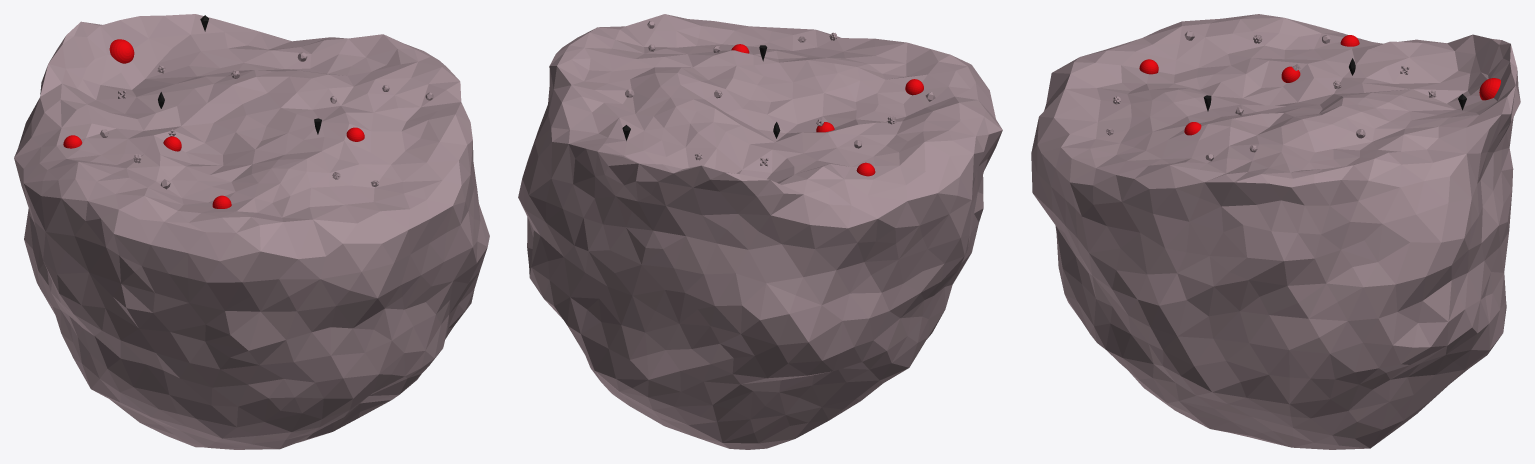
Rendered from World.glb.
3 renders of one model, left to right at view 1: azimuth 30°, elevation 25°; view 2: azimuth 150°, elevation 25°; view 3: azimuth 270°, elevation 25°, orthographic. The views are drawn at different scales.
Parts seen in each view (by area): view 1: Planet Bottom, Planet Top, ST_TheseRockySlopes; view 2: Planet Bottom, Planet Top; view 3: Planet Bottom, Planet Top.
Boxes of the visible parts, box(x1,y1,x2,y2) form: Planet Bottom: box(14, 21, 489, 449); Planet Top: box(14, 14, 472, 232); ST_TheseRockySlopes: box(109, 39, 134, 63); Planet Bottom: box(518, 30, 1002, 449); Planet Top: box(549, 14, 985, 218); Planet Bottom: box(1031, 39, 1520, 449); Planet Top: box(1054, 14, 1515, 188).
Size of the model in its own units: 50.7 by 40.88 by 50.72.
